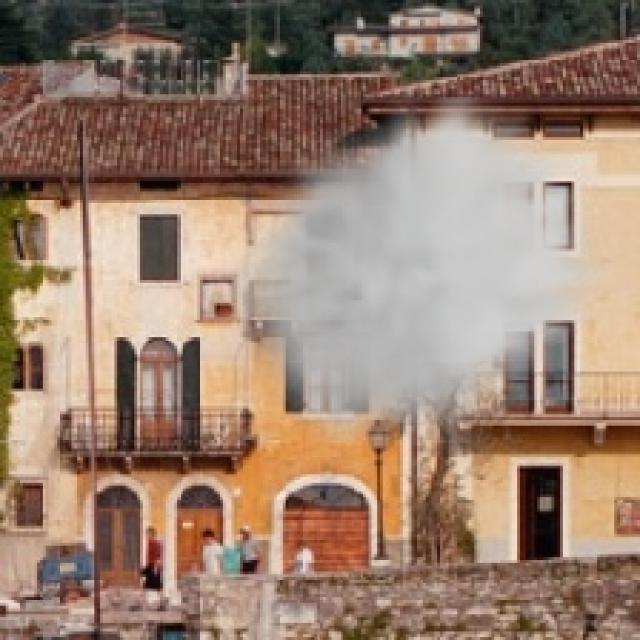Smoke: (219, 97, 612, 443)
